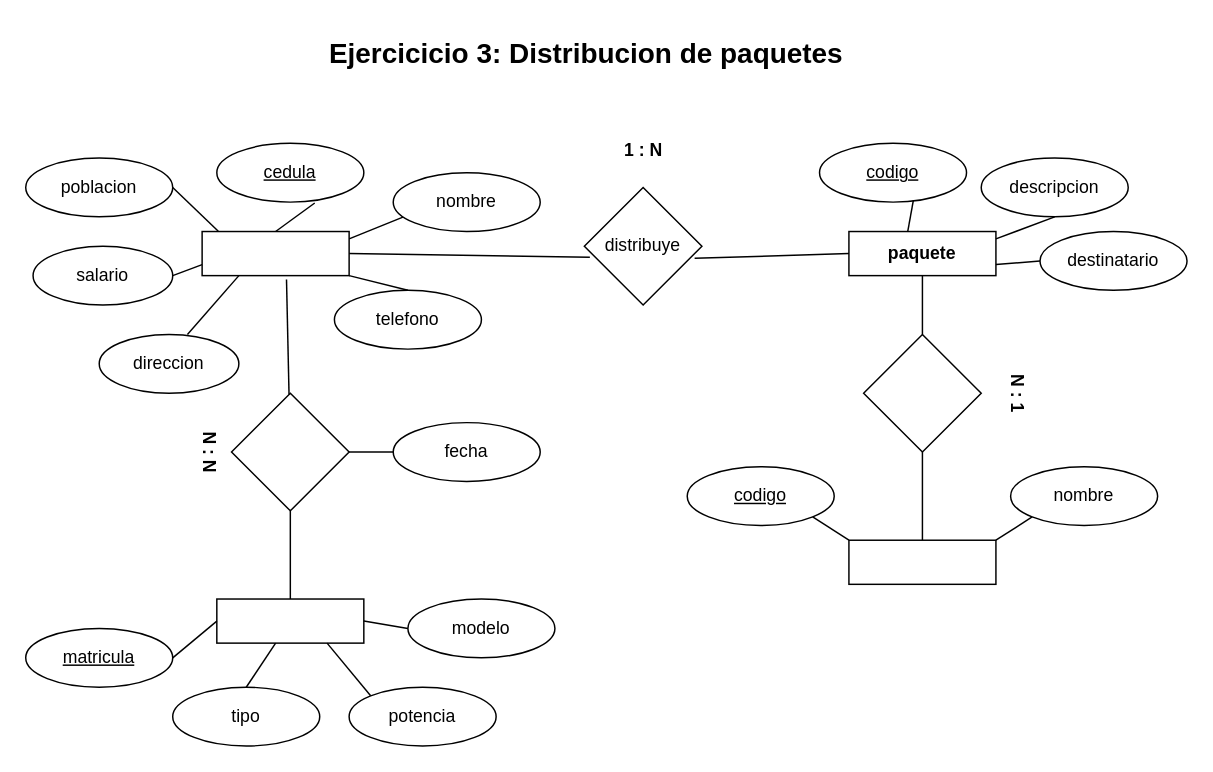
This 1213x772 diagram has some shape labels left out. The centre of each missing label's shape, as x and y in pixels:
camion: [289,620]
camionero: [275,253]
conduce: [289,451]
llega: [921,392]
provincia: [921,561]
